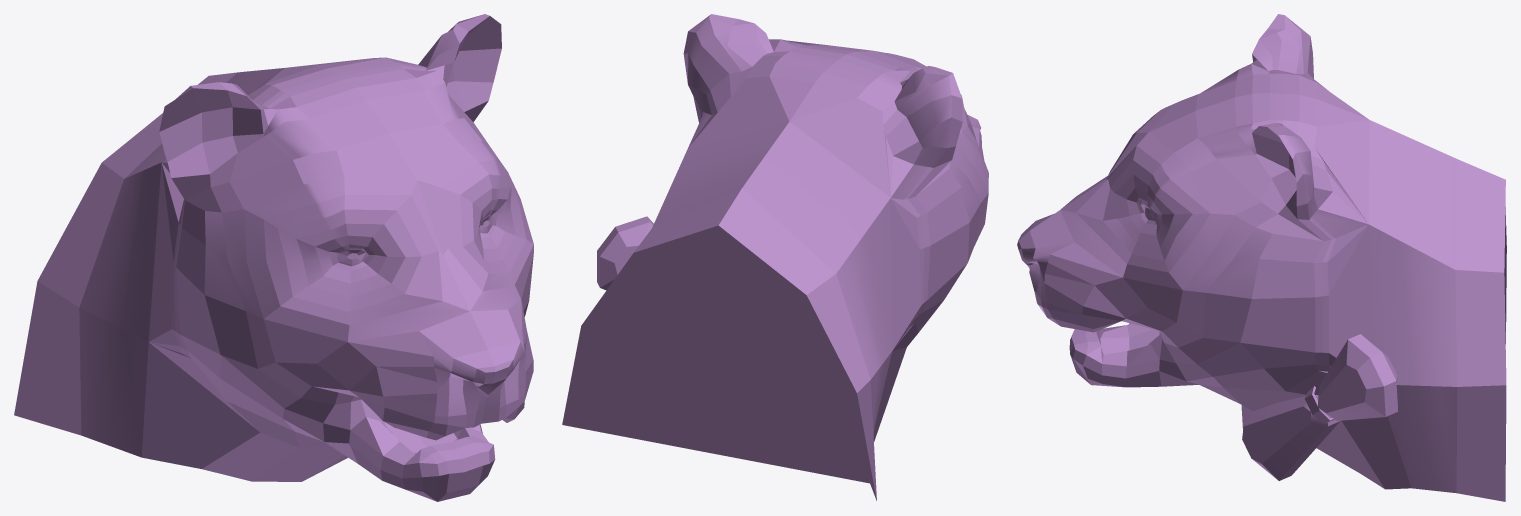
The model's file is TWB04.fbx.
The picture shows the model from 3 angles, left to right: view 1: azimuth 30°, elevation 25°; view 2: azimuth 150°, elevation 25°; view 3: azimuth 270°, elevation 25°; orthographic projection. The views are drawn at different scales.
Visible parts, largest first — view 1: pCube4; view 2: pCube4; view 3: pCube4.
Boxes of the visible parts, left/top/right/bottom form: pCube4: left=14, top=14, right=533, bottom=501; pCube4: left=562, top=14, right=988, bottom=500; pCube4: left=1017, top=14, right=1506, bottom=501.
Size of the model in its own units: 4.17 by 4.44 by 5.08.
